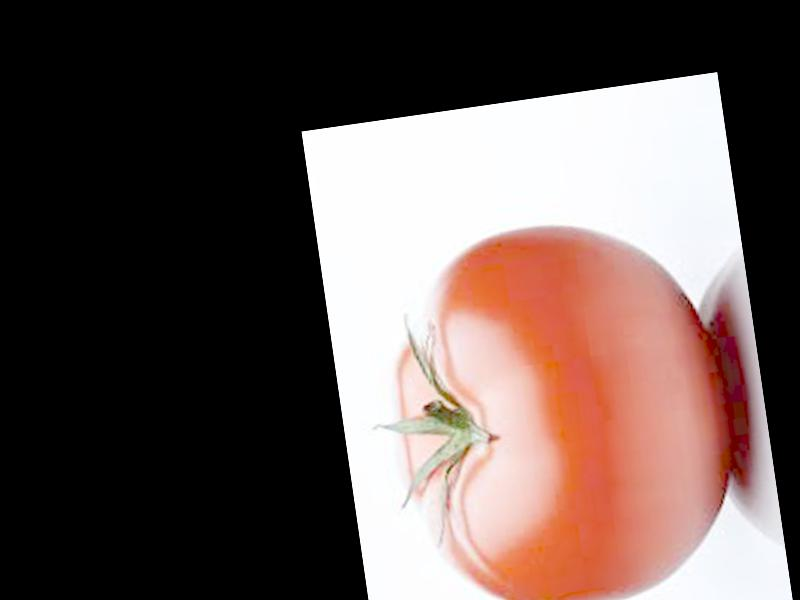Tomato: (371, 206, 747, 600)
